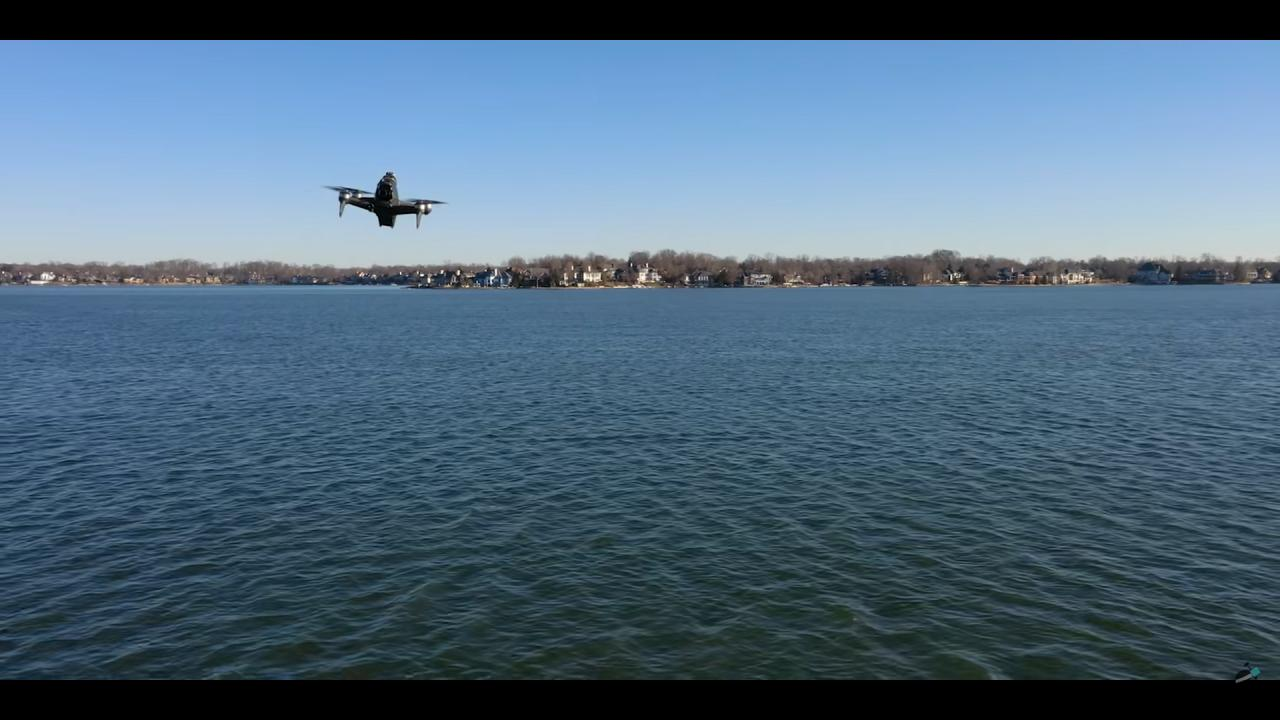Drone: (317, 165, 454, 236)
